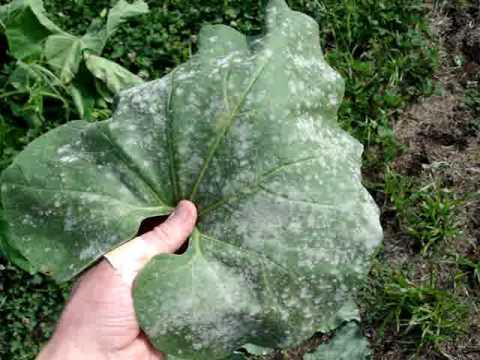Squash Powdery mildew leaf: (13, 1, 379, 350)
